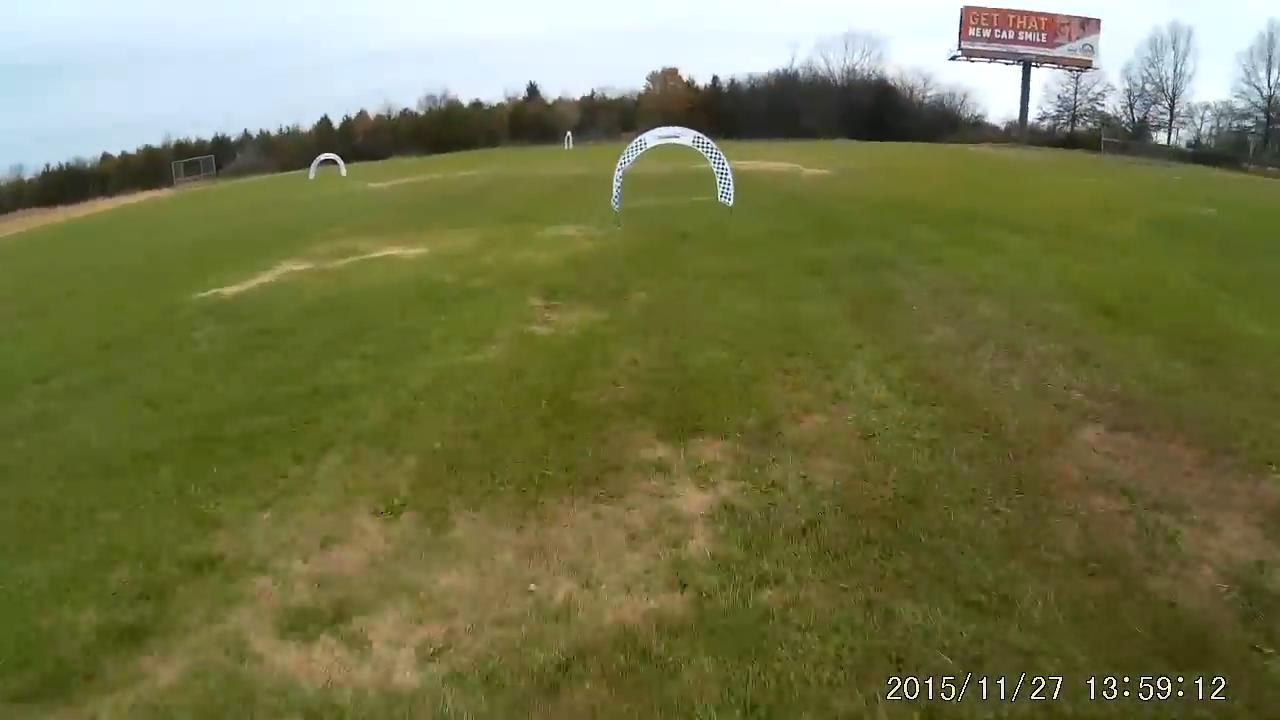gate: (603, 125, 737, 207)
